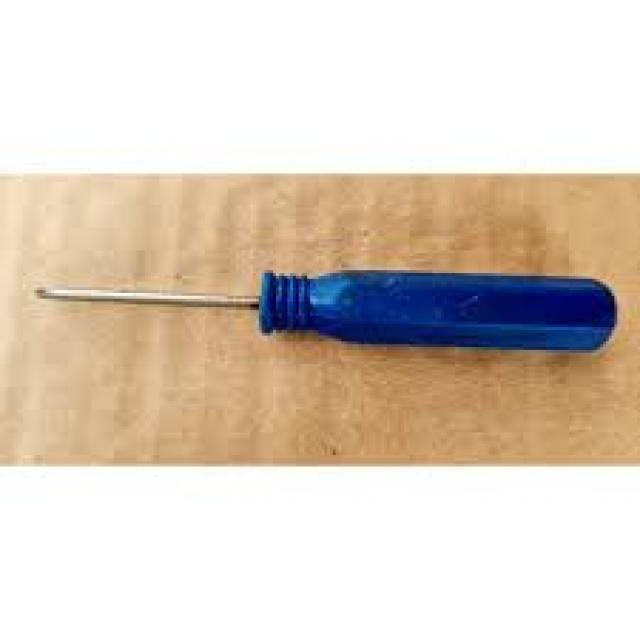screwdriver: (22, 266, 618, 357)
